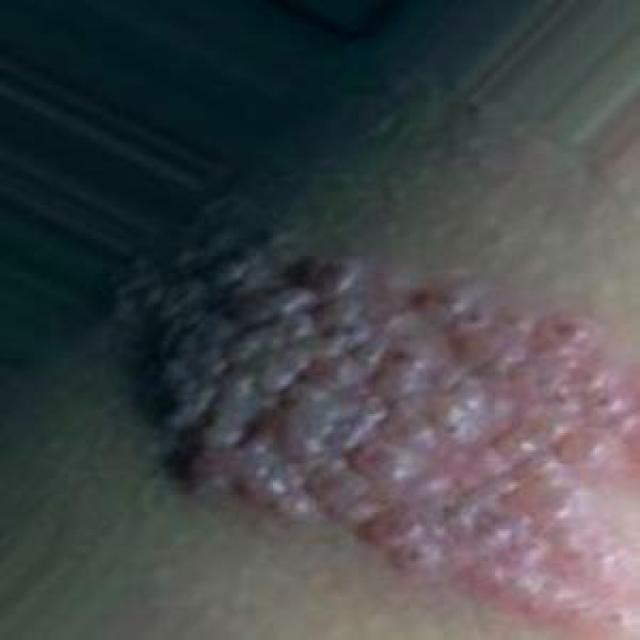Shingles: (119, 241, 640, 640)
